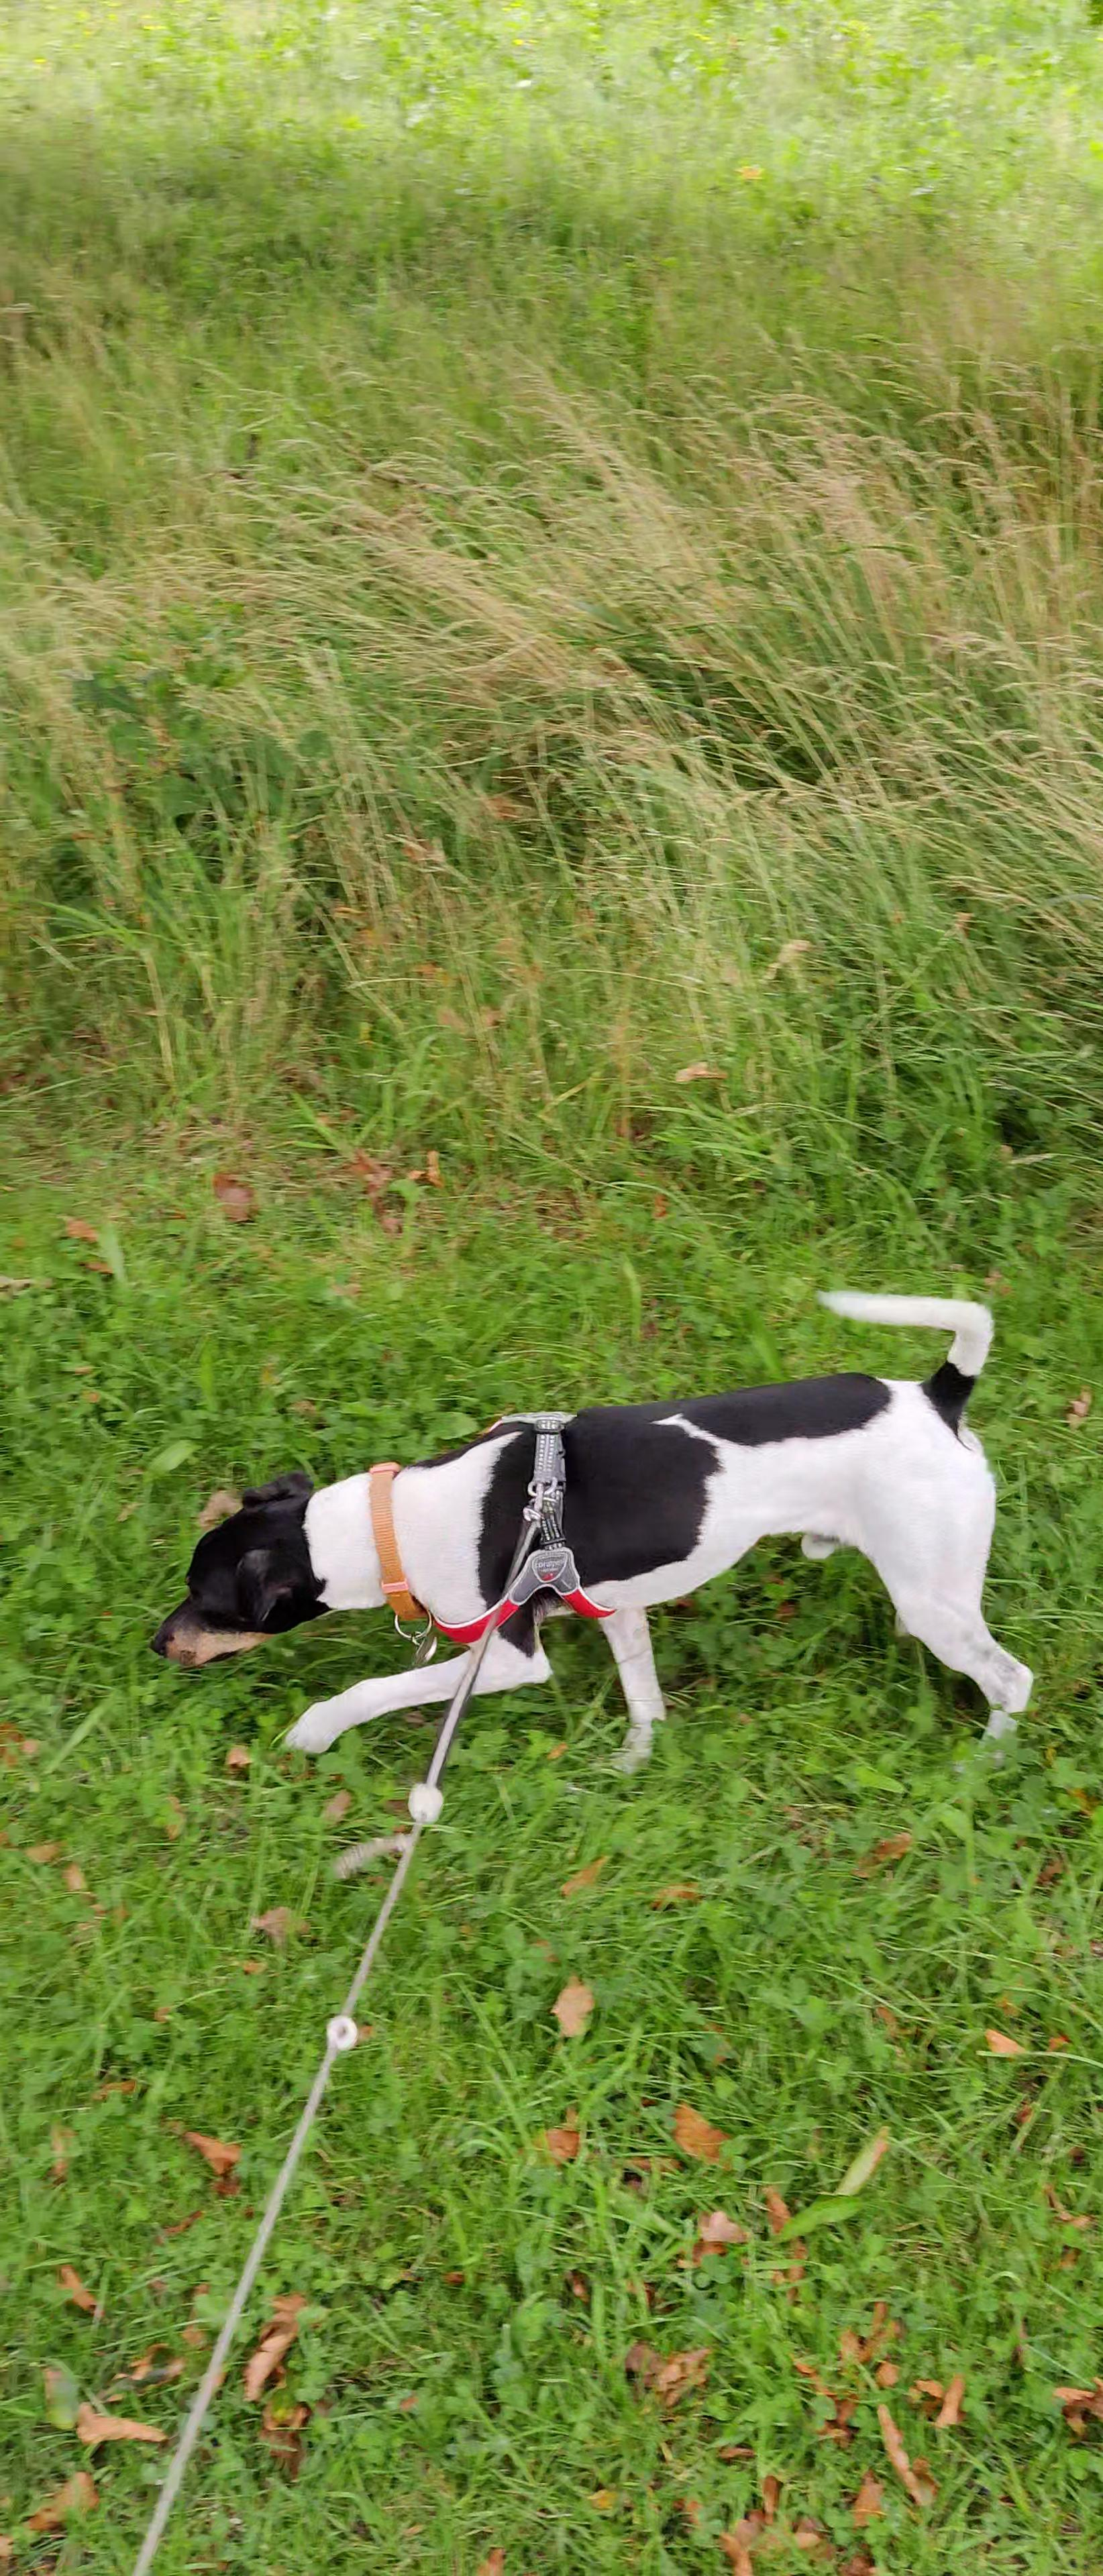Dog: (141, 1283, 1034, 1779)
